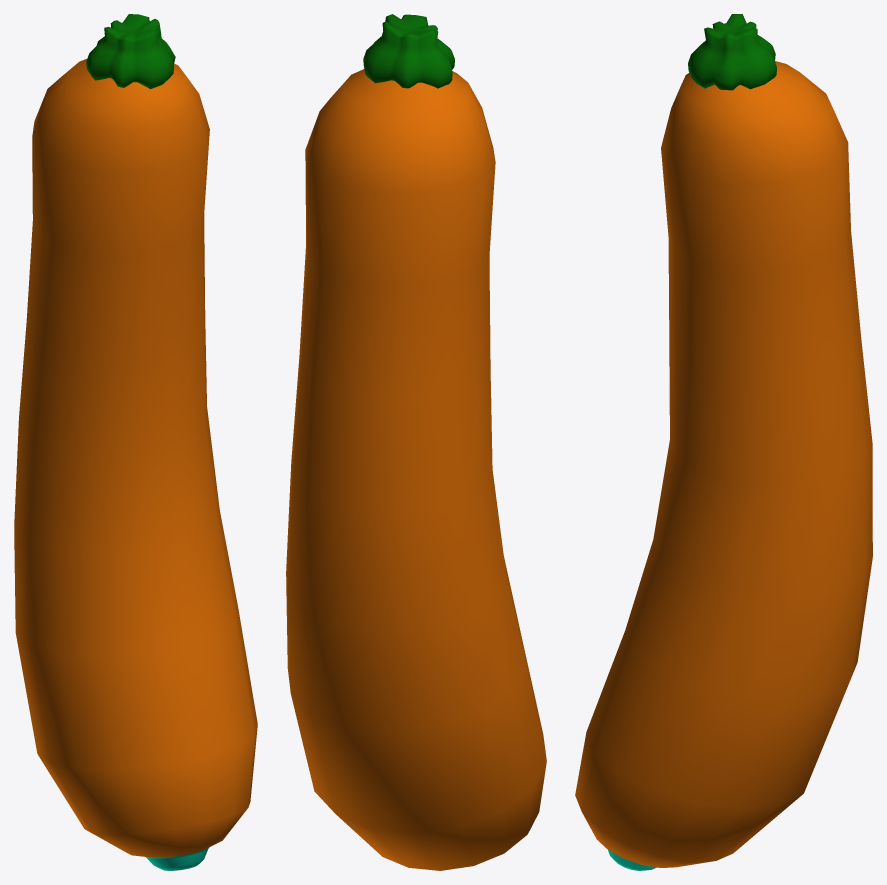
The model's file is Zucchini.fbx.
3 renders of one model, left to right at view 1: azimuth 30°, elevation 25°; view 2: azimuth 150°, elevation 25°; view 3: azimuth 270°, elevation 25°, orthographic. The views are drawn at different scales.
Visible parts, largest first — view 1: Zucchini; view 2: Zucchini; view 3: Zucchini.
Boxes of the visible parts, <box> form: Zucchini: <box>14,14,257,870</box>; Zucchini: <box>286,14,546,870</box>; Zucchini: <box>575,14,872,870</box>.
Bounding box in the file's own units: 10.79 × 13.78 × 43.08.
